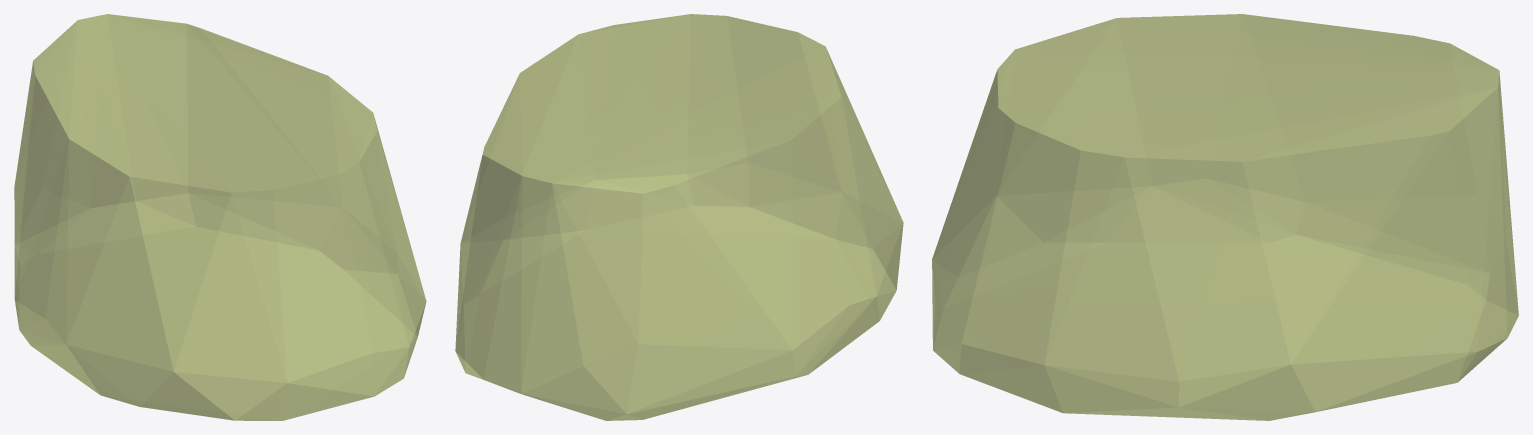
3 renders of one model, left to right at view 1: azimuth 30°, elevation 25°; view 2: azimuth 150°, elevation 25°; view 3: azimuth 270°, elevation 25°, orthographic. The views are drawn at different scales.
Parts seen in each view (by area): view 1: Shape_IndexedFaceSet.002_Shape_IndexedFaceSet.8251; view 2: Shape_IndexedFaceSet.002_Shape_IndexedFaceSet.8251; view 3: Shape_IndexedFaceSet.002_Shape_IndexedFaceSet.8251.
Part boxes in pixels (x1,y1,x2,y2): Shape_IndexedFaceSet.002_Shape_IndexedFaceSet.8251: (14,14,426,420); Shape_IndexedFaceSet.002_Shape_IndexedFaceSet.8251: (455,14,903,420); Shape_IndexedFaceSet.002_Shape_IndexedFaceSet.8251: (932,14,1518,420).
Size of the model in its own units: 0.3018 by 0.1843 by 0.382.
